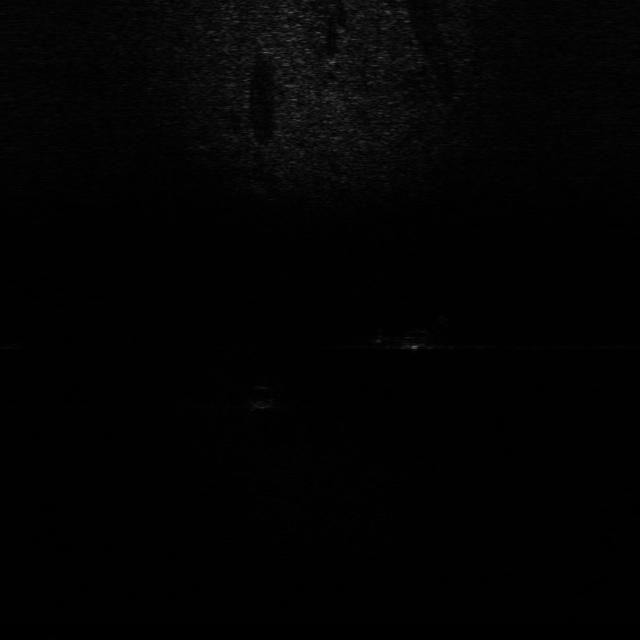ball: (238, 379, 281, 410)
human body: (360, 320, 454, 354)
